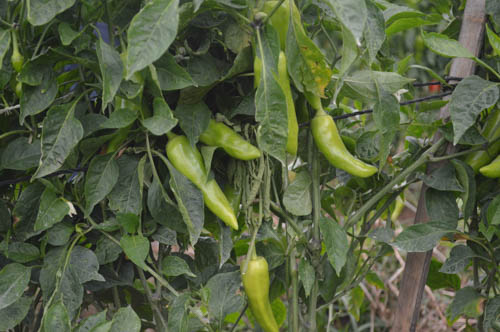ChiliPepper: (169, 138, 238, 228), (256, 51, 297, 156), (311, 112, 376, 177), (242, 254, 277, 330), (201, 122, 262, 161)
